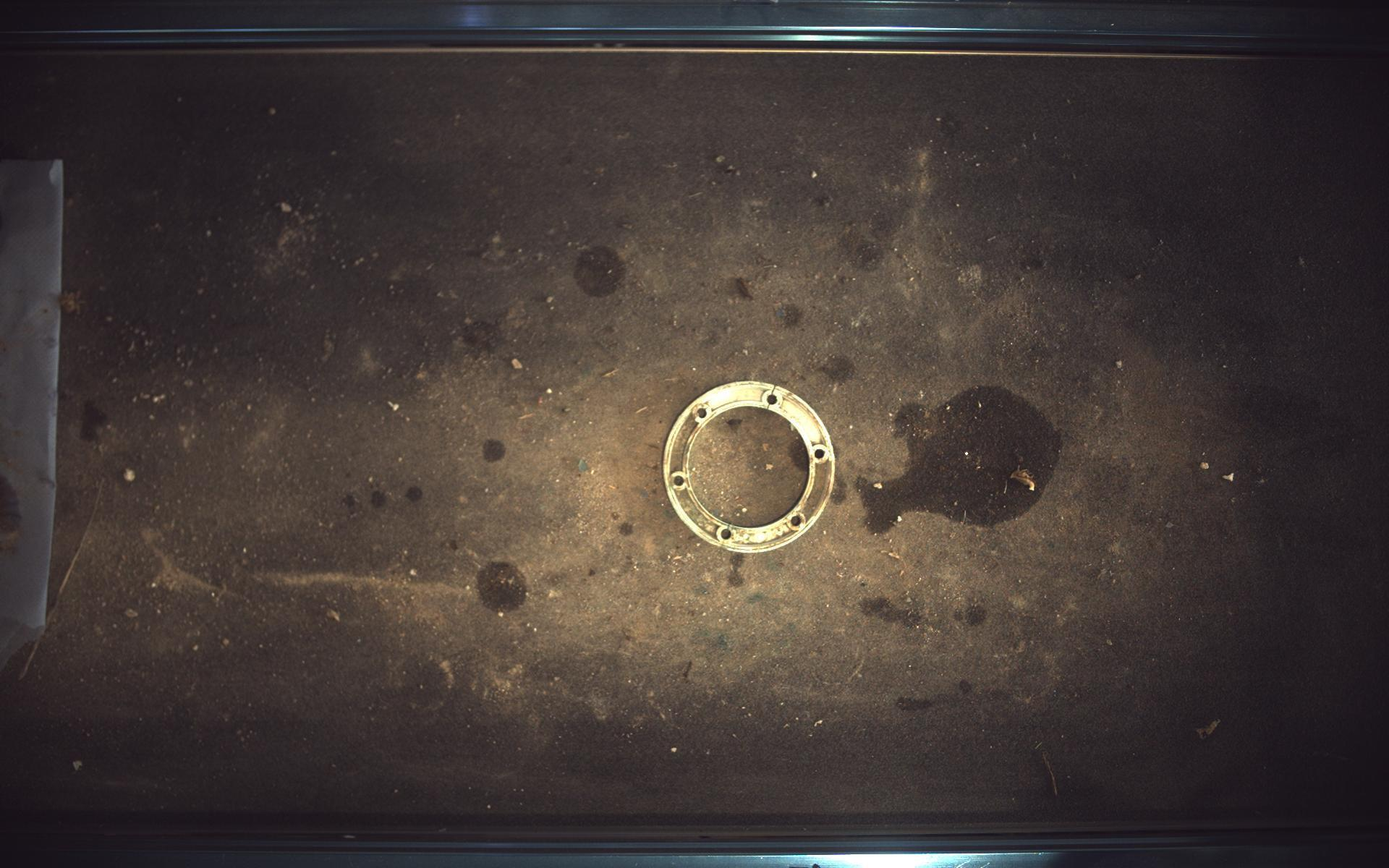plastic: (664, 380, 837, 554)
